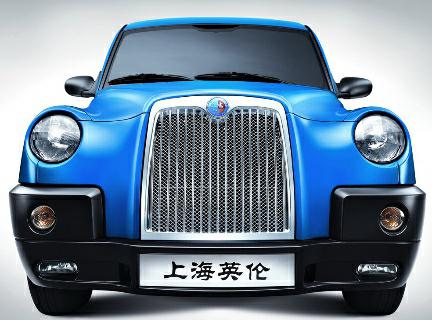吉利汽车-英伦TX4: (4, 8, 428, 313)
